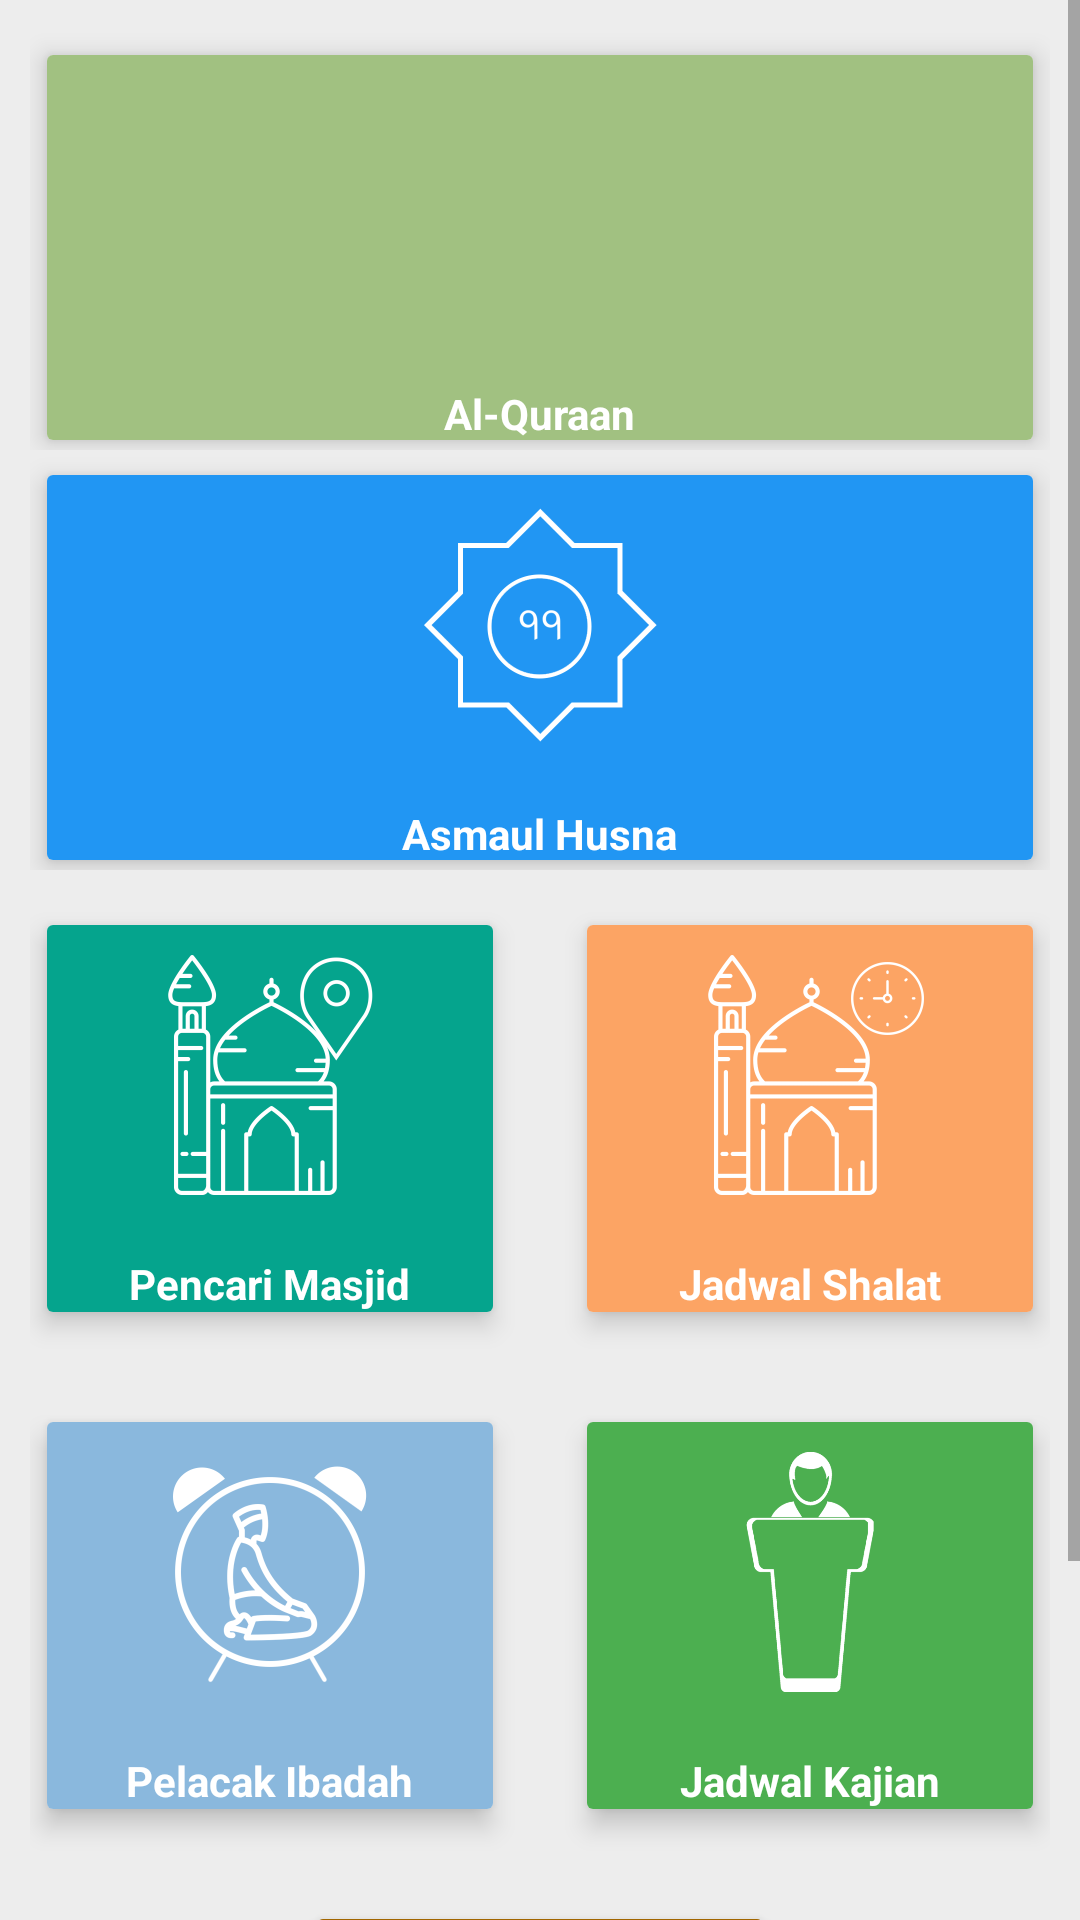

Icon click points for this 1080w x 1920h phone screenshot, format [x,y]:
ceramah: [810,1572]
pelacakibah: [269,1574]
